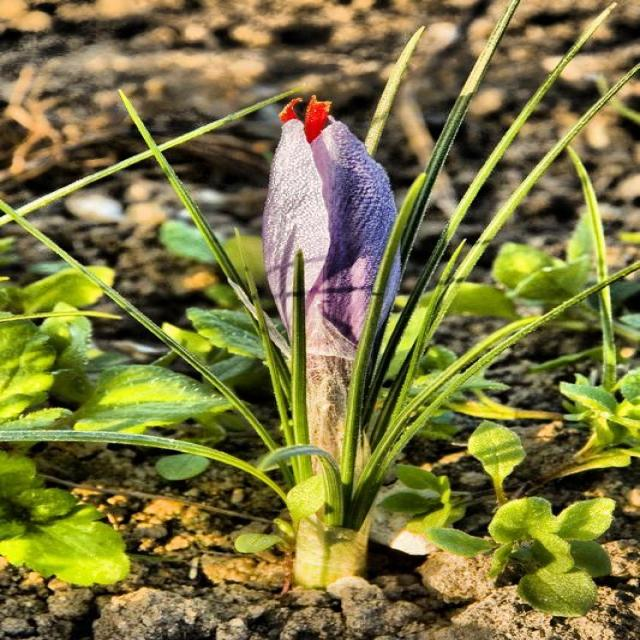Flower: (254, 89, 410, 394)
stigma: (299, 95, 340, 139), (273, 97, 307, 127)
